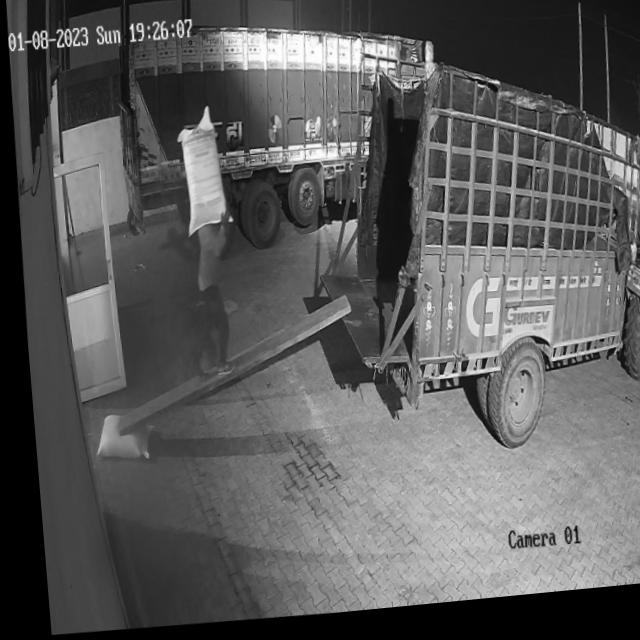sack: (171, 108, 231, 240), (87, 413, 145, 463)
